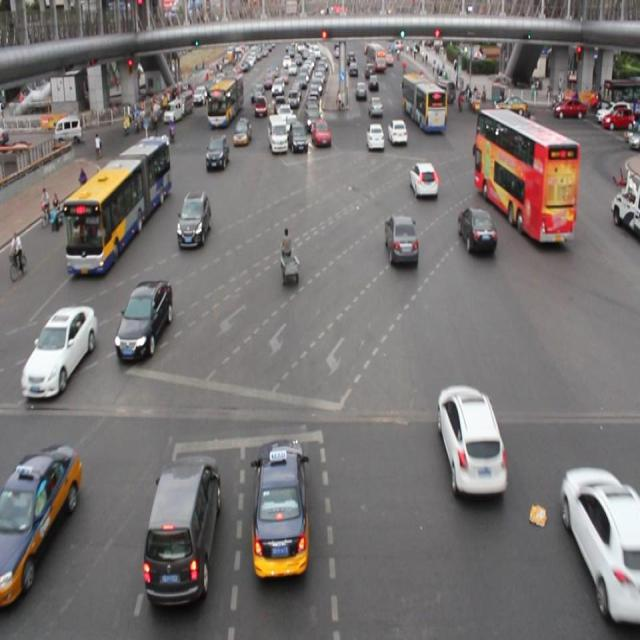car: (1, 445, 81, 605), (560, 462, 640, 622), (436, 383, 506, 496), (251, 439, 307, 576), (21, 305, 98, 400), (118, 281, 175, 360), (457, 206, 497, 254), (177, 192, 210, 250), (385, 213, 419, 267), (408, 160, 439, 201), (206, 135, 228, 171), (289, 120, 309, 155), (310, 118, 331, 150), (364, 123, 384, 153), (387, 118, 408, 145), (233, 118, 252, 146)
truck: (144, 453, 220, 607), (266, 112, 289, 158)
van: (67, 137, 166, 272), (477, 109, 574, 242), (402, 71, 444, 132)
